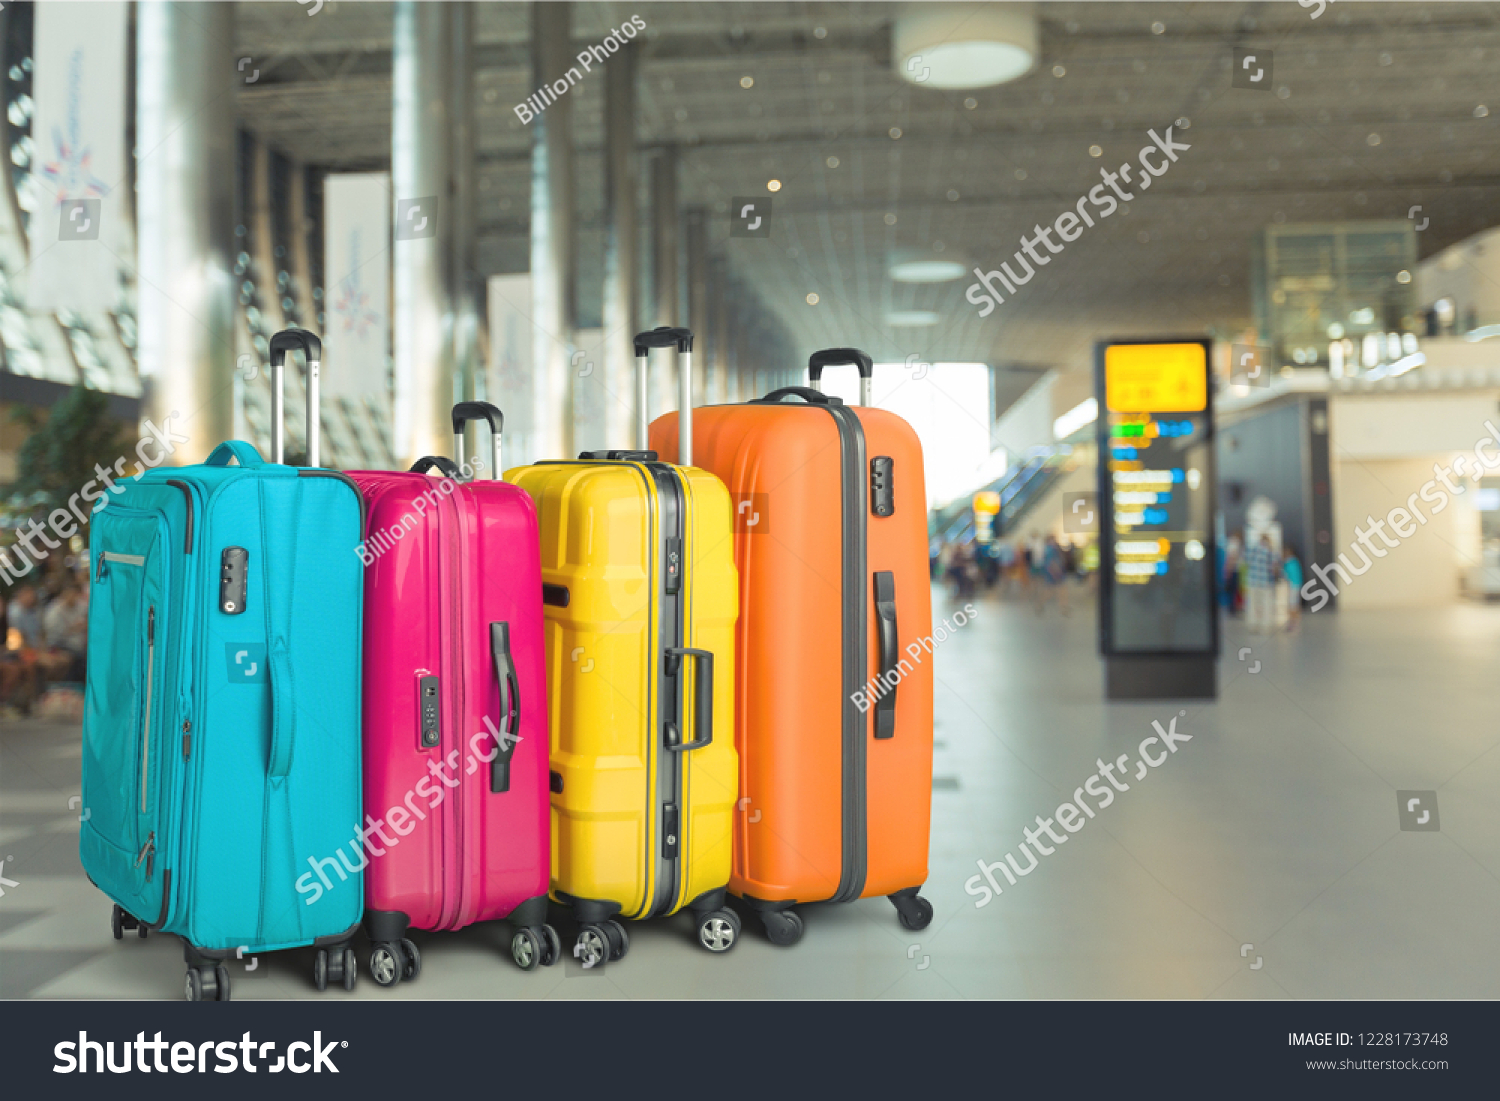luggage: (71, 322, 365, 1001), (648, 344, 954, 953), (491, 320, 749, 988), (332, 389, 567, 984)
